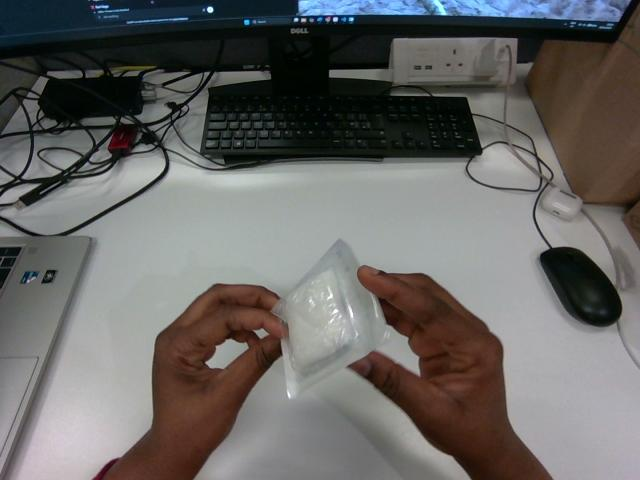gauze: (272, 240, 387, 397)
